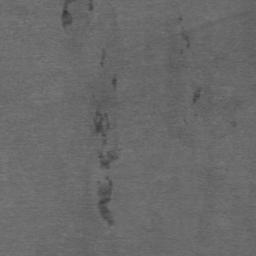Iron scale compression: (93, 113, 117, 170), (97, 178, 113, 224), (61, 0, 74, 27), (190, 88, 201, 105), (111, 77, 118, 88), (101, 50, 105, 65)
